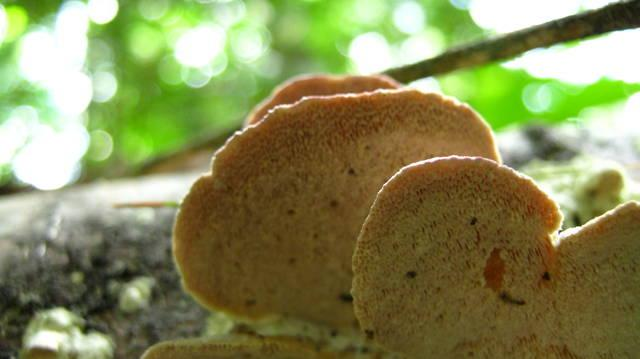Non-edible Mushroom: (169, 73, 502, 332), (349, 153, 638, 357)
